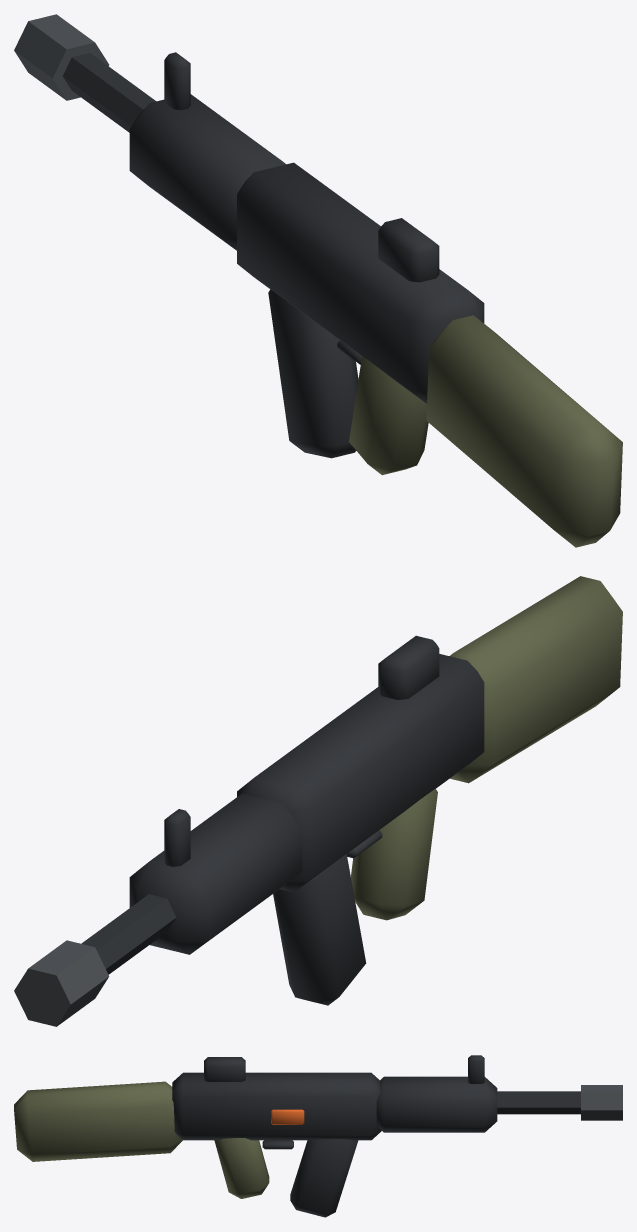
The model's file is weapon_rifle.glb.
The picture shows the model from 3 angles, top to bottom: view 1: azimuth 30°, elevation 25°; view 2: azimuth 150°, elevation 25°; view 3: azimuth 270°, elevation 25°; orthographic projection. The views are drawn at different scales.
Visible parts, largest first — view 1: weapon_rifle; view 2: weapon_rifle; view 3: weapon_rifle.
Part boxes in pixels (x1,y1,x2,y2): weapon_rifle: (14, 14, 622, 547); weapon_rifle: (14, 576, 622, 1026); weapon_rifle: (14, 1055, 622, 1217).
Bounding box in the file's own units: 0.0625 × 0.2083 × 0.7266.
Materials: 1 (1 with a texture image).
